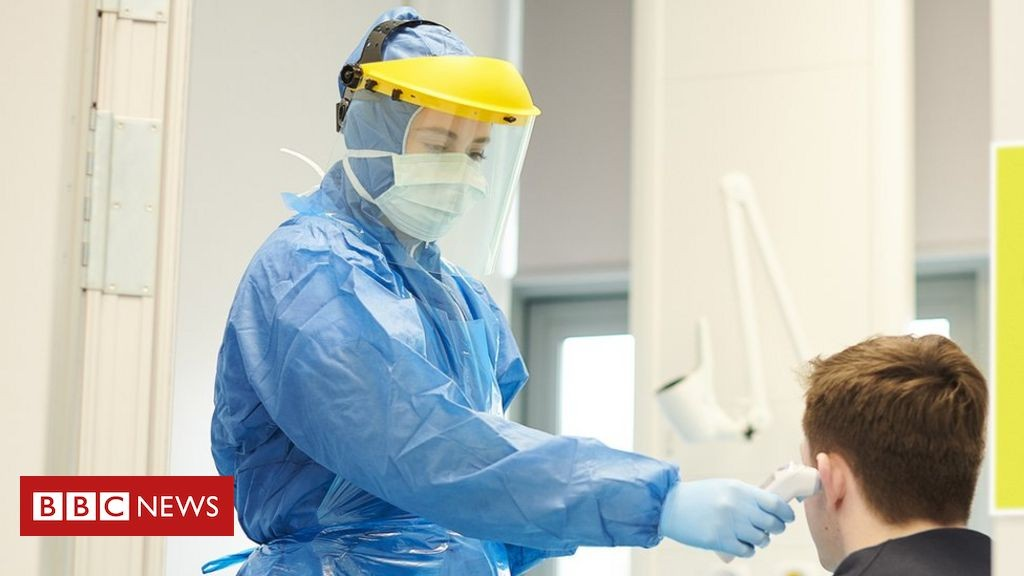Coverall: (202, 2, 689, 576)
Face_Shield: (339, 55, 545, 289)
Gloves: (658, 471, 803, 563)
with_mask: (390, 125, 492, 253)
